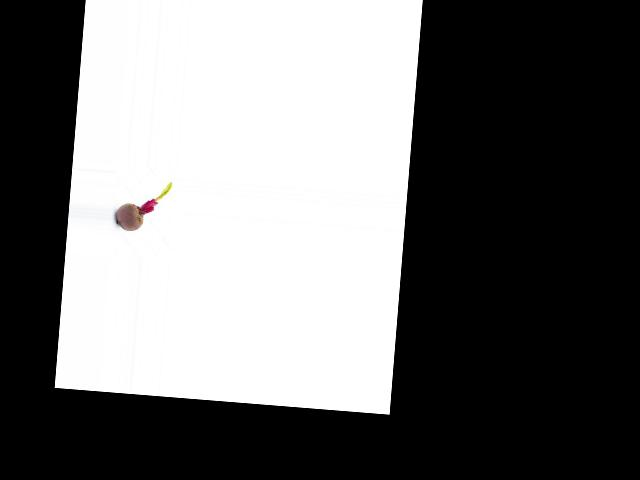beet: (115, 178, 171, 234)
